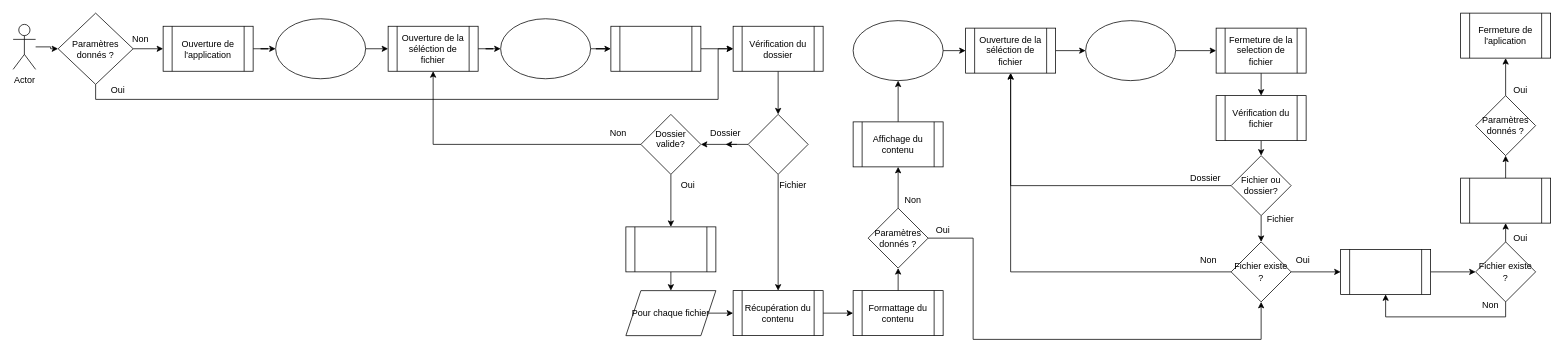
The diagram is 1564 pixels wide and 359 high, and some of its shapes have lost their labels. Each missing label, with the centre of its shape:
"Clique sur parcourrir" belongs at (x=320, y=48).
"Clique sur Sauvegarder" belongs at (x=897, y=50).
"Créer le fichier" belongs at (x=1385, y=271).
"Dossier ou fichier?" belongs at (x=777, y=144).
"Ecriture des données dans le fichier" belongs at (x=1505, y=200).
"Fermeture de la séléction de fichier" belongs at (x=655, y=48).
"Listage des fichiers" belongs at (x=670, y=249).
"Séléctionne son dossier" belongs at (x=545, y=48).
"Séléctionne son fichier" belongs at (x=1130, y=50).
